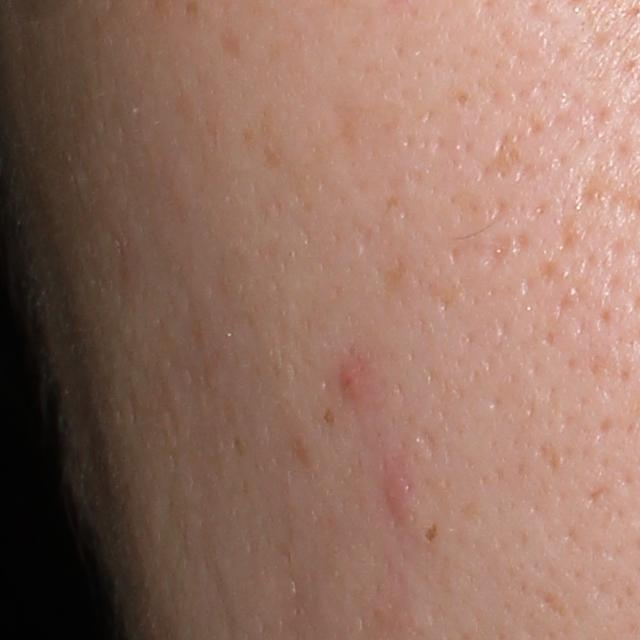atrophic_scar: (474, 132, 523, 184), (478, 228, 512, 273), (532, 587, 569, 619), (421, 428, 439, 457)
papule: (334, 368, 362, 399), (382, 481, 405, 514)
